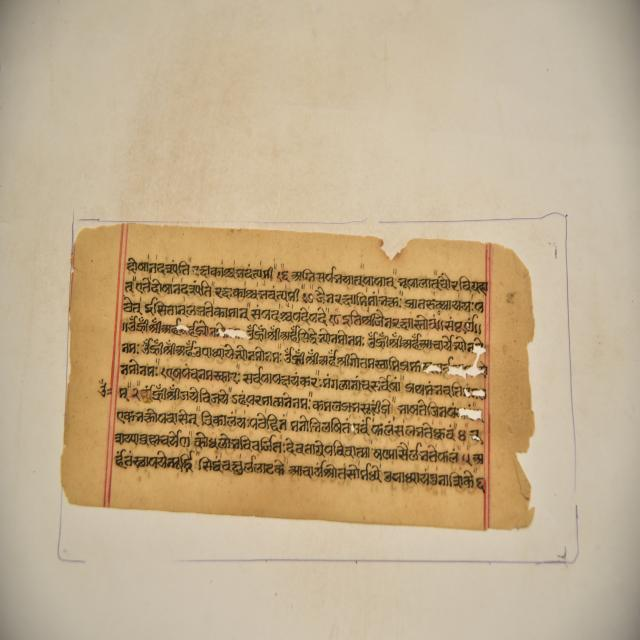text_paragraph: (67, 224, 528, 528)
